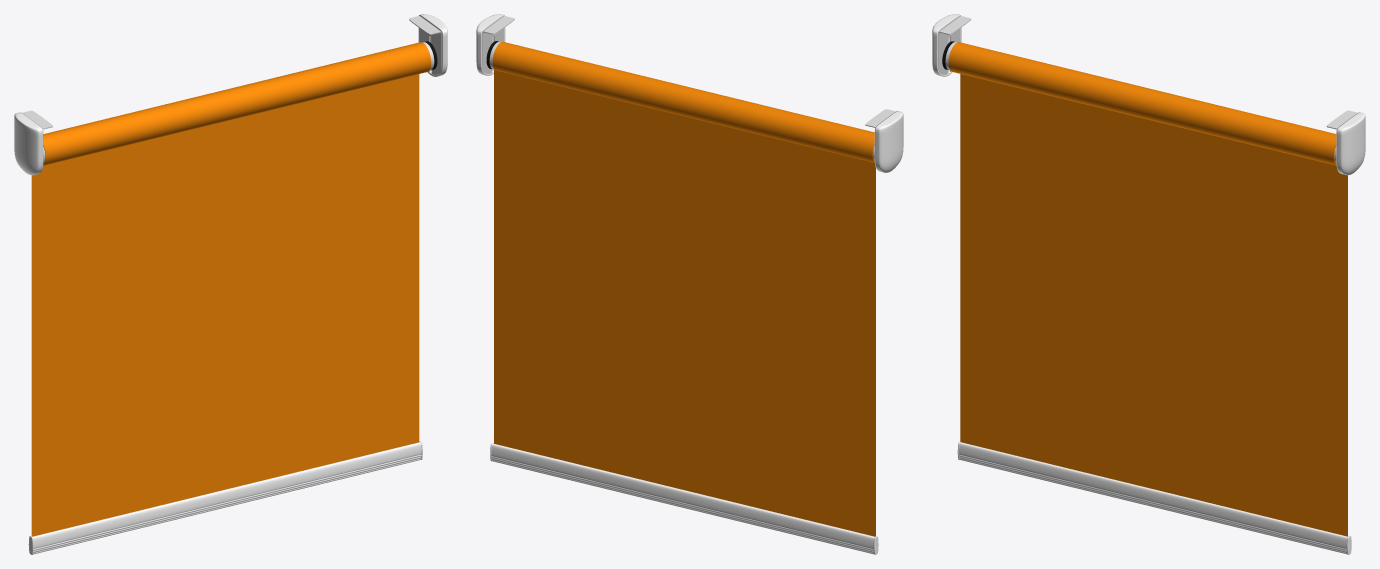
Rendered from Standardrollo (optional mit Kassette).glb.
3 views of the same model, side by side, from view 1: azimuth 30°, elevation 25°; view 2: azimuth 150°, elevation 25°; view 3: azimuth 330°, elevation 25° (orthographic).
Visible parts, largest first — view 1: Stoff.001, Stoffende.001, Cube.002, Cube.006, Cube.007, Cube.001; view 2: Stoff.001, Stoffende.001, Cube.002, Cube.006, Cube.007, Cube.001; view 3: Stoff.001, Stoffende.001, Cube.002, Cube.001, Cube.005, Cube.006.
Part boxes in pixels (x1,y1,x2,y2): Stoff.001: [31, 74, 419, 536]; Stoffende.001: [43, 42, 431, 165]; Cube.002: [32, 442, 421, 554]; Cube.006: [14, 112, 43, 175]; Cube.007: [409, 16, 441, 74]; Cube.001: [418, 14, 447, 76]; Stoff.001: [494, 69, 875, 536]; Stoffende.001: [492, 42, 874, 162]; Cube.002: [491, 443, 874, 554]; Cube.006: [874, 111, 903, 172]; Cube.007: [482, 16, 514, 73]; Cube.001: [476, 14, 505, 75]; Stoff.001: [960, 74, 1347, 536]; Stoffende.001: [948, 42, 1336, 165]; Cube.002: [959, 442, 1348, 554]; Cube.001: [1336, 112, 1365, 175]; Cube.005: [938, 16, 971, 74]; Cube.006: [932, 14, 961, 76].
Size of the model in its own units: 1.29 by 1.29 by 0.1274.
6 materials, 1 textured.
